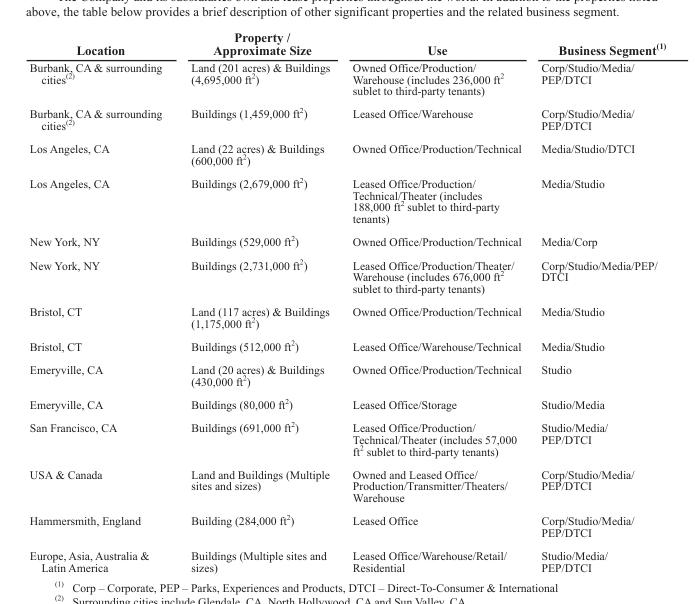table: (28, 29, 665, 573)
table column: (340, 29, 530, 573), (175, 29, 340, 573), (28, 29, 175, 573), (530, 29, 665, 573)
table column header: (28, 29, 665, 58)
table row: (28, 170, 665, 228), (28, 414, 665, 462), (28, 252, 665, 299), (28, 462, 665, 508), (28, 58, 665, 101), (28, 101, 665, 136), (28, 508, 665, 543), (28, 136, 665, 170), (28, 299, 665, 333), (28, 357, 665, 391), (28, 543, 665, 573), (28, 29, 665, 58), (28, 228, 665, 252), (28, 333, 665, 357), (28, 391, 665, 414)
